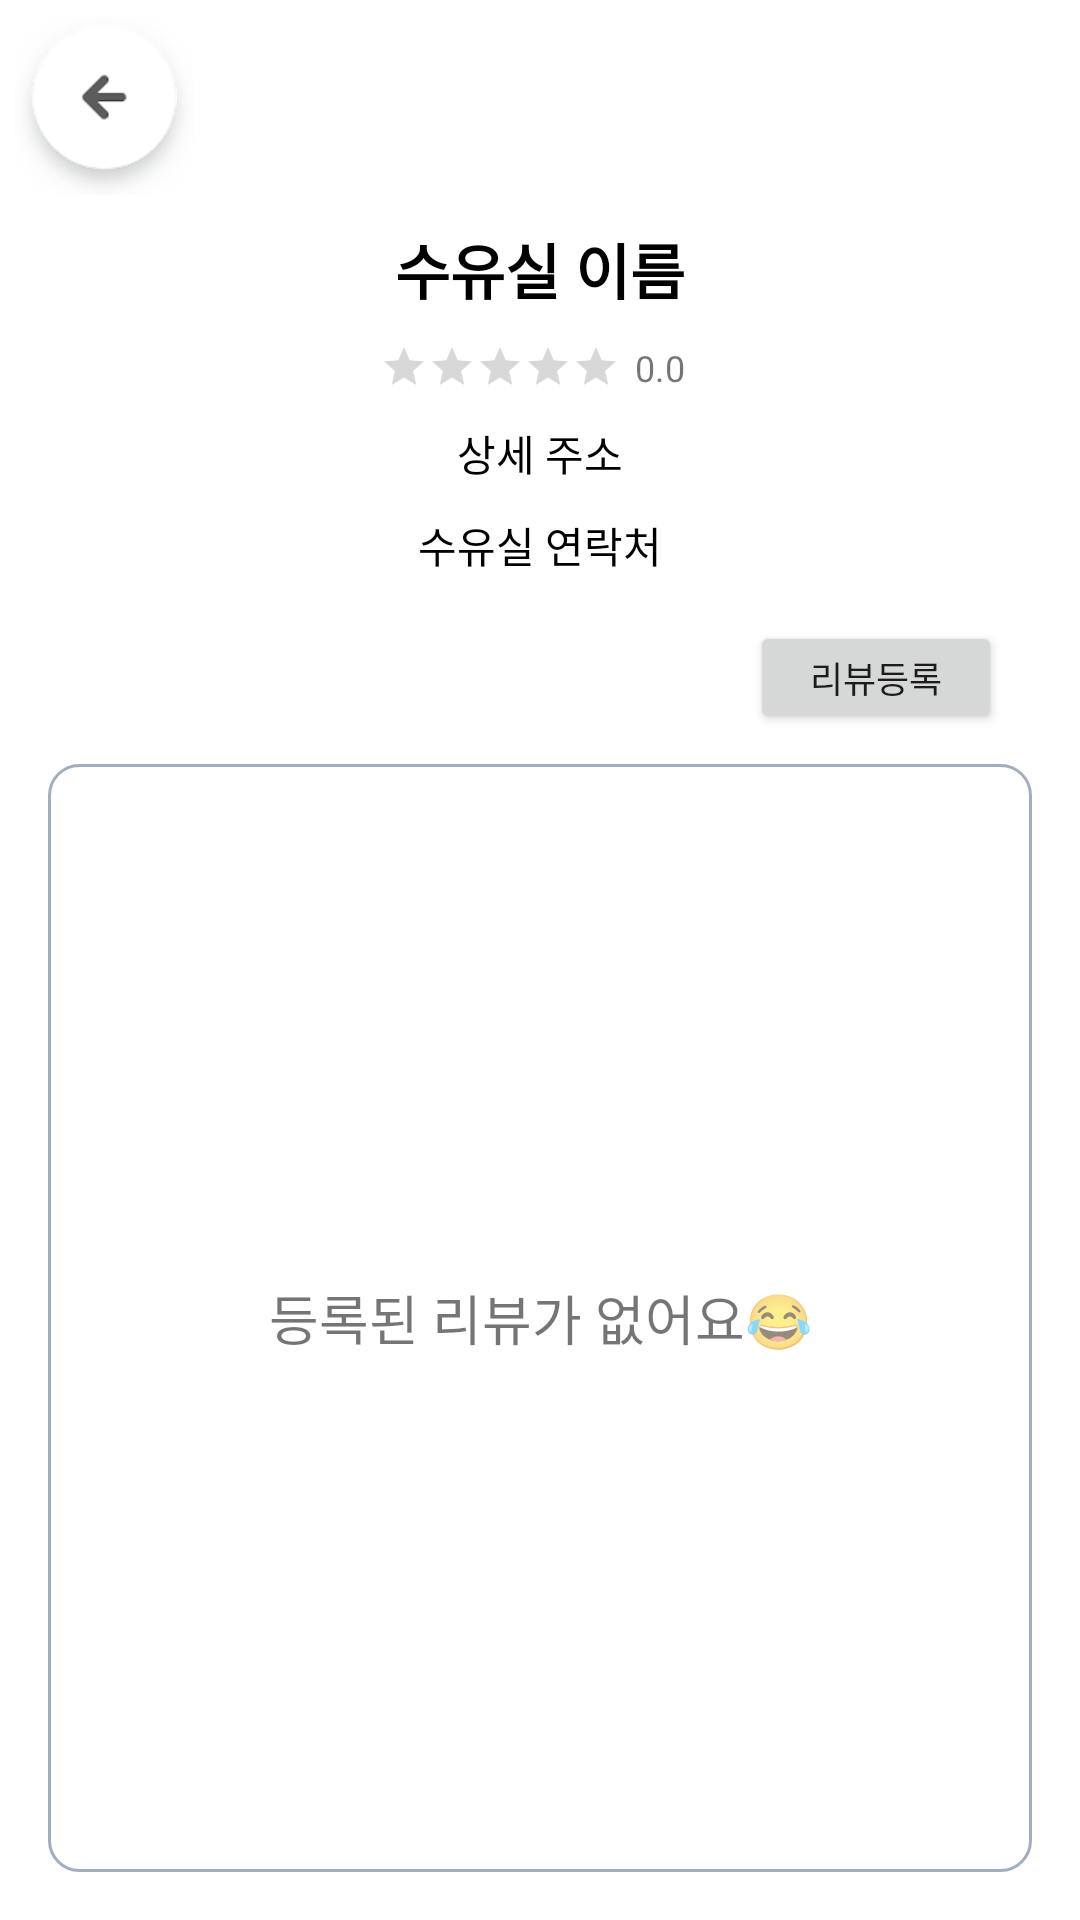

Point at icon controls on the screen. Image size 1080 × 1920, points as (x=x, y=y).
backimg: (x=105, y=127)
